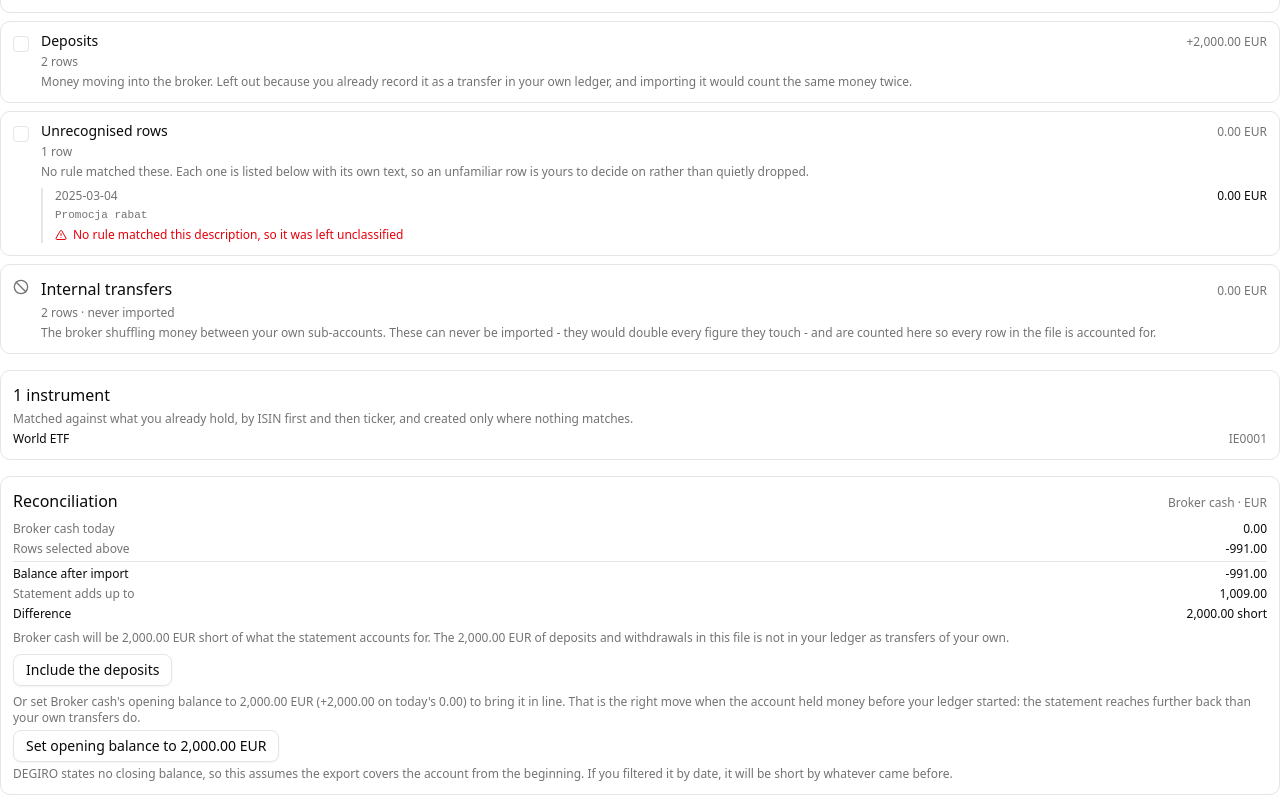
Test: ImportPreview reconciliation › closes the gap when the deposits are included from the panel
(page scrolled)
Click the button "Include the deposits". click: (93, 670)
box: [13,654,172,686]
(page scrolled)
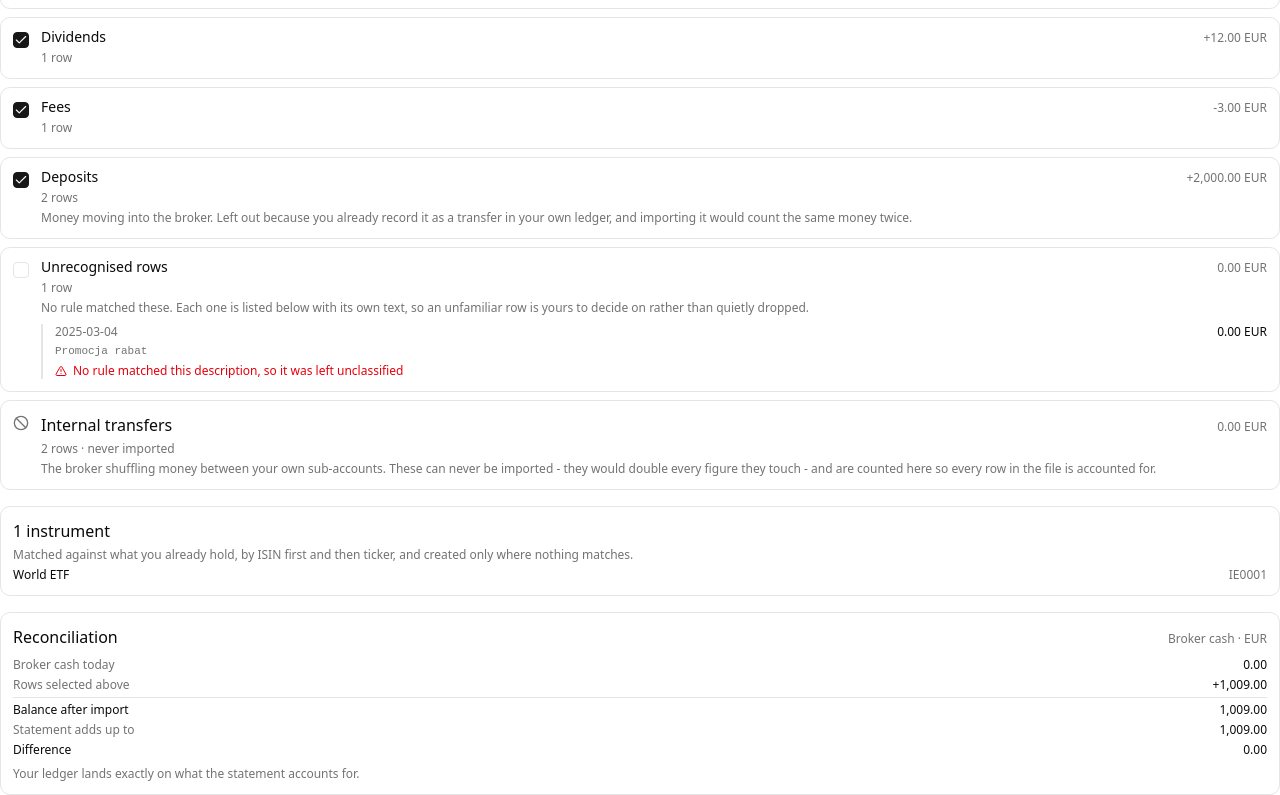
Expected: the checkbox named "Deposits" next to "Deposits" is checked, [13,172,29,188]
Expected: the text "2,000.00 short" is gone
Expected: the text "lands exactly on what the statement accounts for" is shown, [13,765,359,782]
